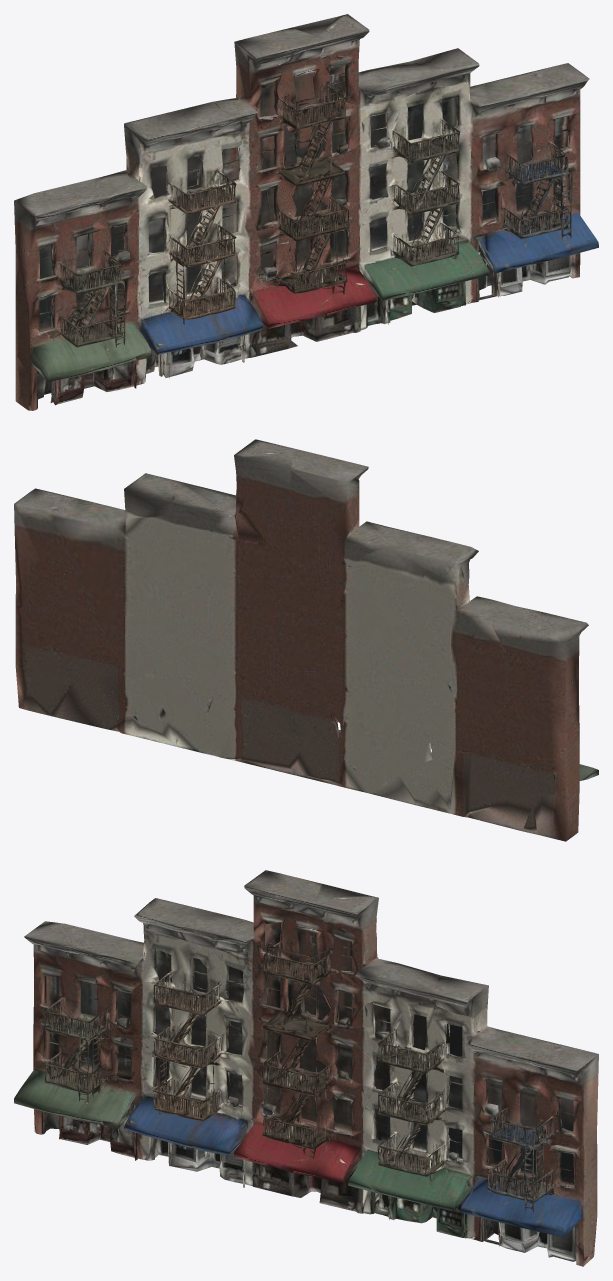
The model's file is row_five_a_hq.glb.
The picture shows the model from 3 angles, top to bottom: view 1: azimuth 30°, elevation 25°; view 2: azimuth 150°, elevation 25°; view 3: azimuth 330°, elevation 25°; orthographic projection.
Visible parts, largest first — view 1: mesh_node; view 2: mesh_node; view 3: mesh_node.
Boxes of the visible parts, bbox=[...] form: mesh_node: bbox=[14, 14, 598, 410]; mesh_node: bbox=[14, 439, 598, 841]; mesh_node: bbox=[14, 870, 598, 1266].
Size of the model in its own units: 32 by 17 by 3.5.
Materials: 1 (1 with a texture image).
